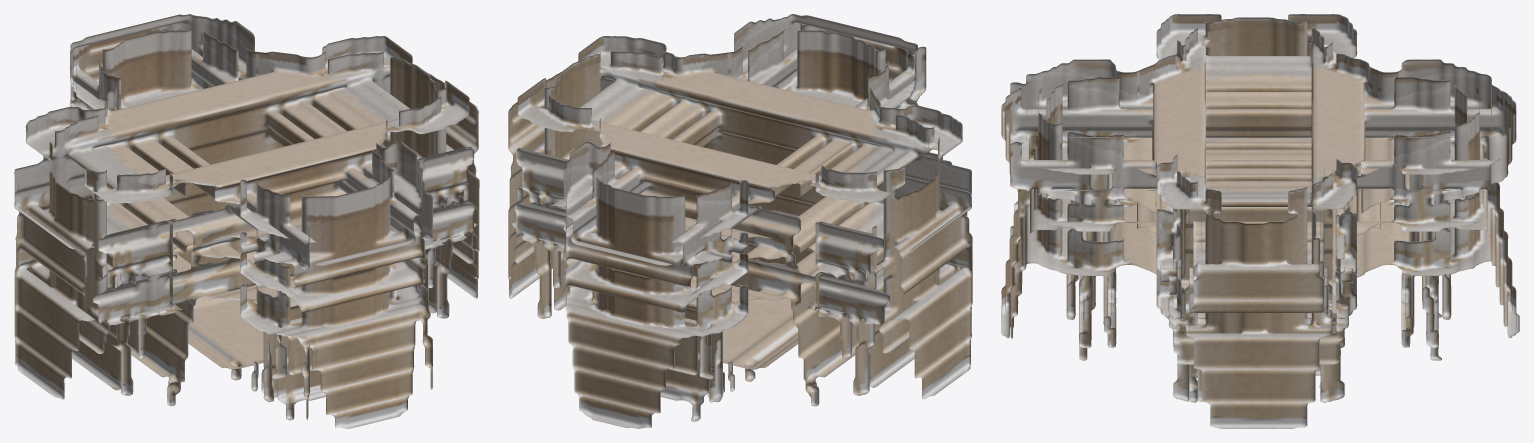
3 renders of one model, left to right at view 1: azimuth 30°, elevation 25°; view 2: azimuth 150°, elevation 25°; view 3: azimuth 270°, elevation 25°, orthographic.
Parts seen in each view (by area): view 1: geometry_0; view 2: geometry_0; view 3: geometry_0.
Boxes of the visible parts, box(x1,y1,x2,y2) form: geometry_0: box(14, 14, 479, 428); geometry_0: box(508, 14, 972, 428); geometry_0: box(1001, 14, 1519, 428).
Bounding box in the file's own units: 1.24 × 0.6963 × 1.3.
